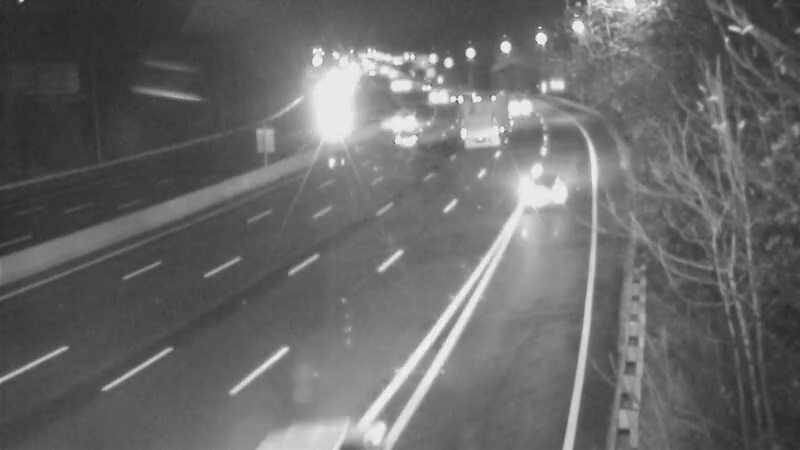vehicle: (265, 361, 375, 450), (505, 158, 585, 238), (412, 72, 462, 122), (494, 81, 544, 131), (449, 96, 499, 146), (384, 112, 434, 162), (378, 93, 428, 143), (310, 93, 360, 143)
